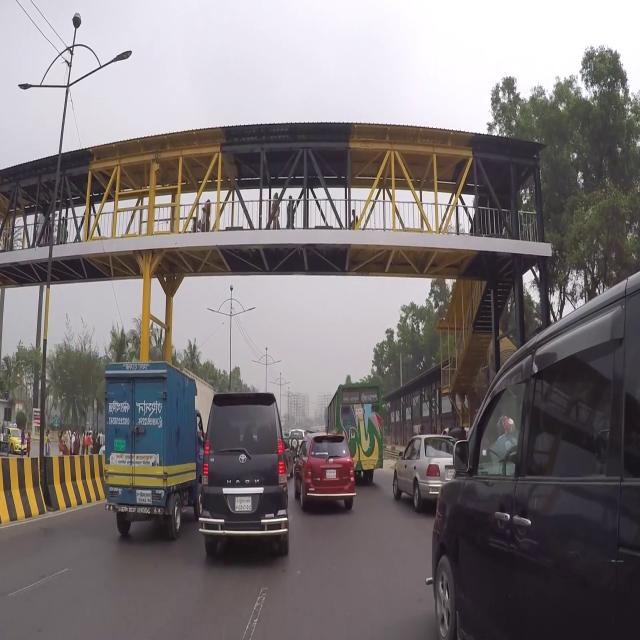black: (448, 270, 640, 640), (204, 392, 289, 576)
red: (293, 430, 357, 518)
silver: (389, 430, 465, 514)
